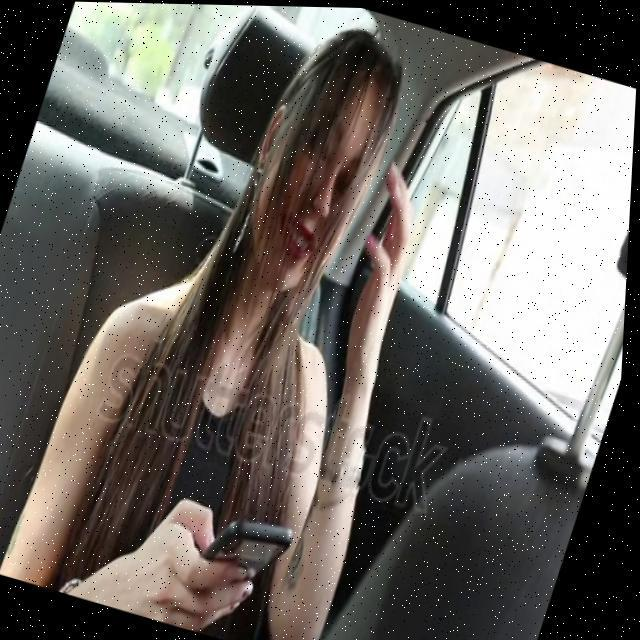PhoneCall: (195, 504, 303, 606)
